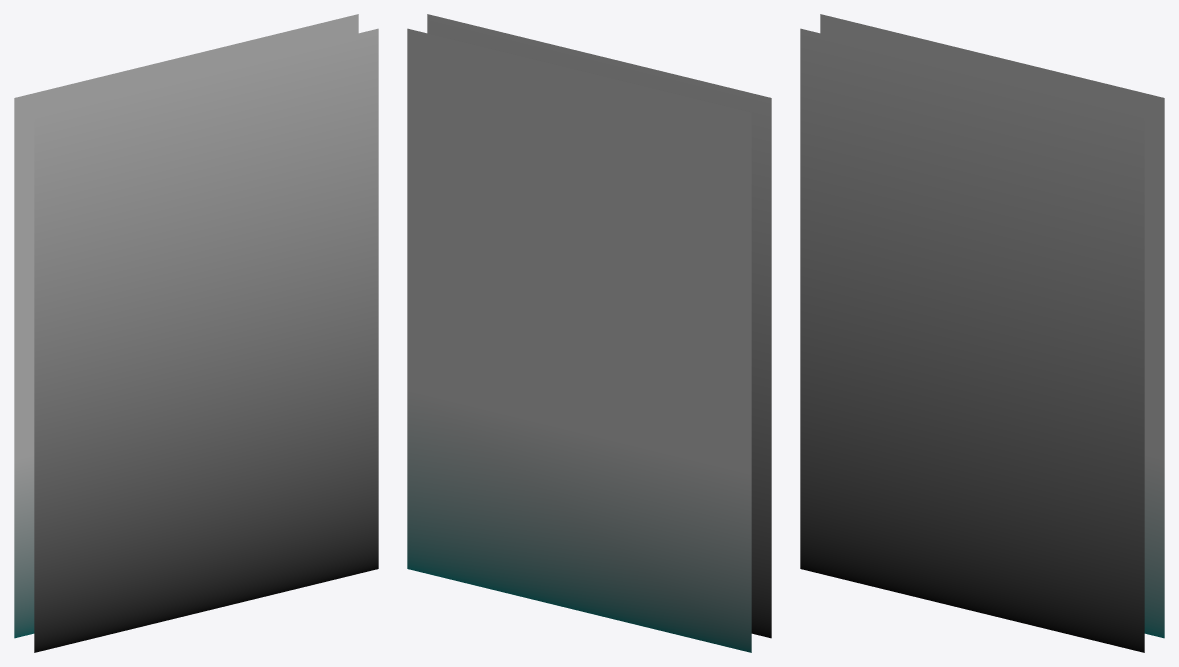
File: Brick_Plain_3.gltf
3 renders of one model, left to right at view 1: azimuth 30°, elevation 25°; view 2: azimuth 150°, elevation 25°; view 3: azimuth 330°, elevation 25°, orthographic.
Visible parts, largest first — view 1: Brick_Plain_3; view 2: Brick_Plain_3; view 3: Brick_Plain_3.
Boxes of the visible parts, box(x1,y1,x2,y2) form: Brick_Plain_3: box(14, 14, 378, 652); Brick_Plain_3: box(407, 14, 771, 652); Brick_Plain_3: box(800, 14, 1164, 652).
Size of what is drawn, in the model's own units: 2 by 3 by 0.2.
